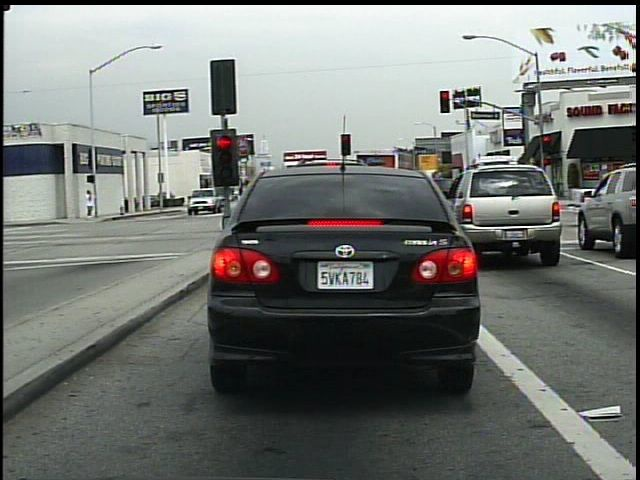person: (83, 189, 96, 218)
